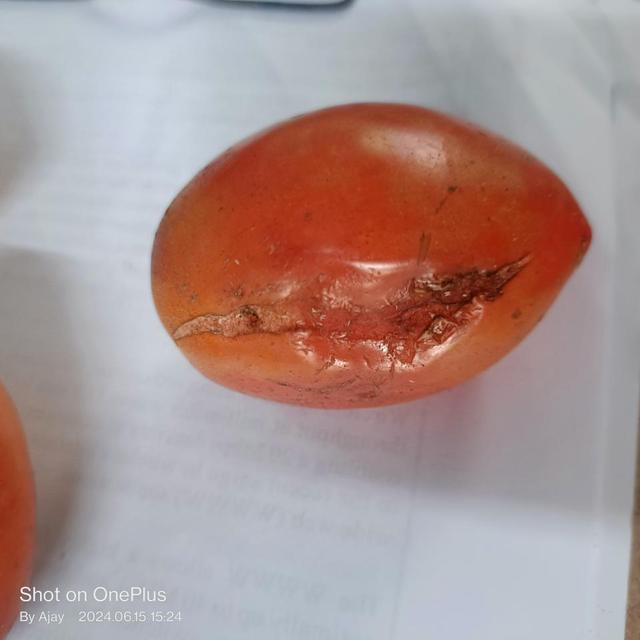Cracking Fruit: (132, 141, 497, 302)
